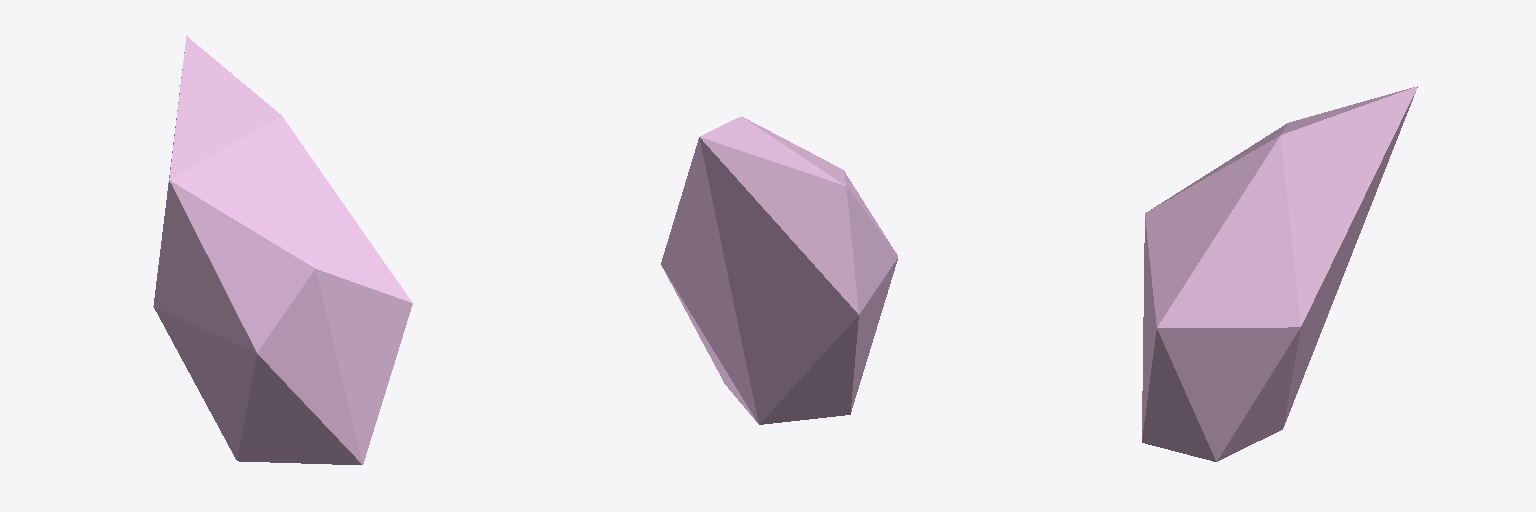
File: Kristall_rosa.obj
3 views of the same model, side by side, from view 1: azimuth 30°, elevation 25°; view 2: azimuth 150°, elevation 25°; view 3: azimuth 270°, elevation 25° (orthographic).
Parts seen in each view (by area): view 1: Platonischer_Körper; view 2: Platonischer_Körper; view 3: Platonischer_Körper.
Part boxes in pixels (x1,y1,x2,y2): Platonischer_Körper: (153, 36, 412, 464); Platonischer_Körper: (661, 116, 897, 424); Platonischer_Körper: (1142, 86, 1417, 461).
Size of the model in its own units: 13541 by 22694 by 16739.